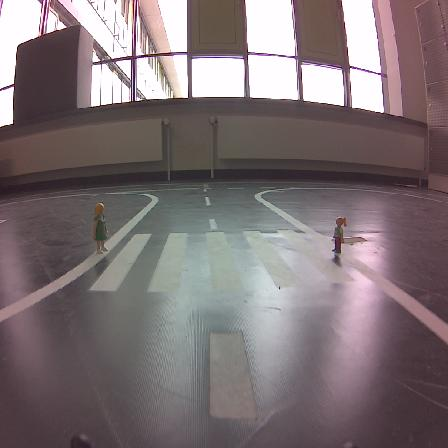CHILD: (333, 217, 346, 253)
PERSON: (93, 203, 107, 254)
